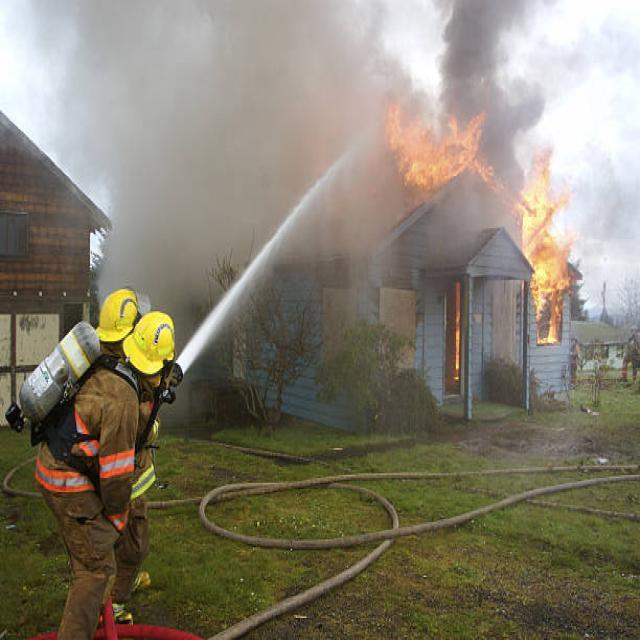Fire: (70, 0, 540, 314), (517, 160, 573, 344), (386, 101, 500, 190)
